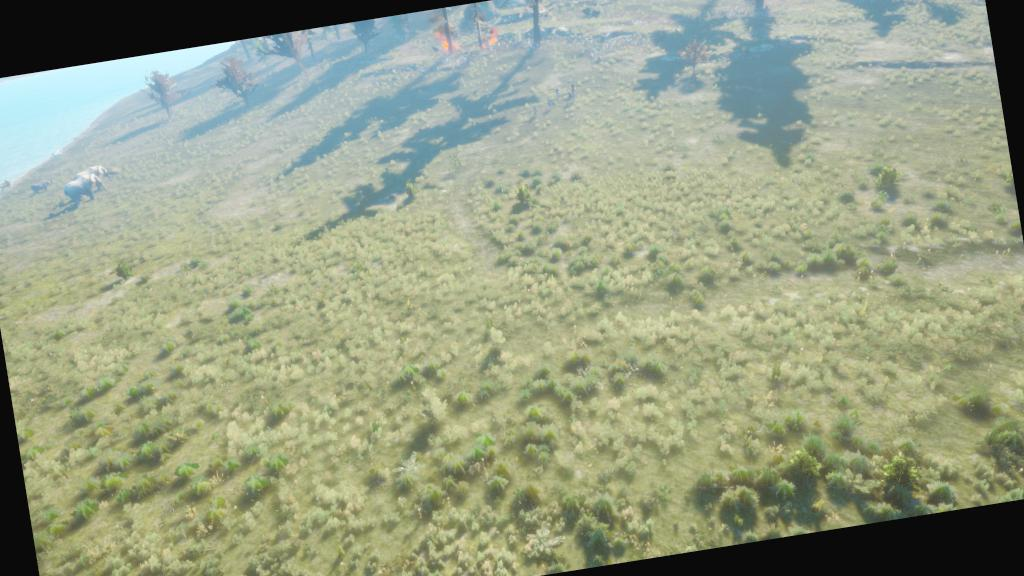Fire: (474, 24, 504, 52), (434, 29, 462, 56)
elephant: (60, 171, 107, 206), (69, 161, 116, 192)
hippopotamus: (28, 178, 54, 194)
lion: (0, 178, 13, 193)
zebra: (50, 148, 68, 162)
